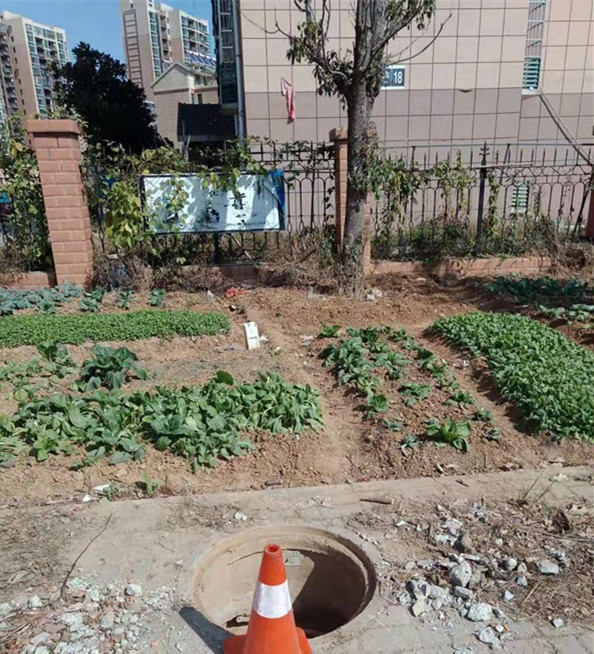lose: (177, 516, 387, 646)
